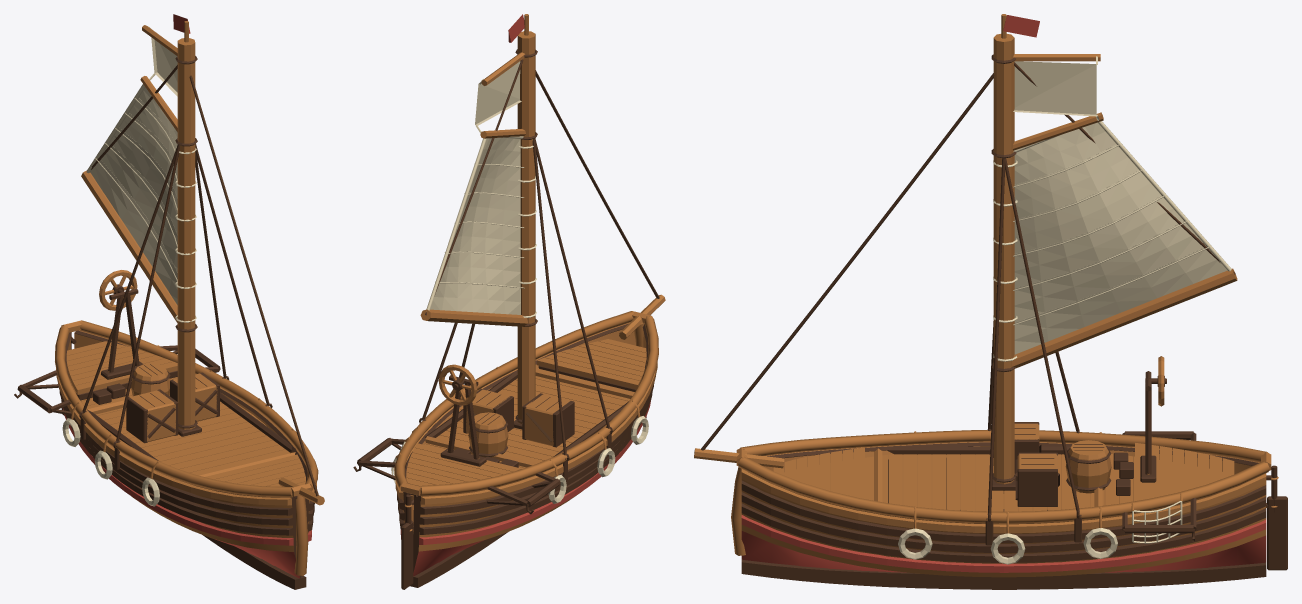
The model's file is boat_skiff_a.glb.
The picture shows the model from 3 angles, left to right: view 1: azimuth 30°, elevation 25°; view 2: azimuth 150°, elevation 25°; view 3: azimuth 270°, elevation 25°; orthographic projection. The views are drawn at different scales.
Parts seen in each view (by area): view 1: boat_skiff_a_material_00, boat_skiff_a_material_04; view 2: boat_skiff_a_material_00, boat_skiff_a_material_04; view 3: boat_skiff_a_material_00, boat_skiff_a_material_04.
Part boxes in pixels (x1=…): boat_skiff_a_material_00: x1=14, y1=14, x2=324, y2=589; boat_skiff_a_material_04: x1=62, y1=26, x2=196, y2=506; boat_skiff_a_material_00: x1=353, y1=14, x2=665, y2=589; boat_skiff_a_material_04: x1=391, y1=61, x2=648, y2=503; boat_skiff_a_material_00: x1=694, y1=14, x2=1287, y2=589; boat_skiff_a_material_04: x1=898, y1=56, x2=1231, y2=564.
Size of the model in its own units: 2.96 by 7.85 by 7.36.
